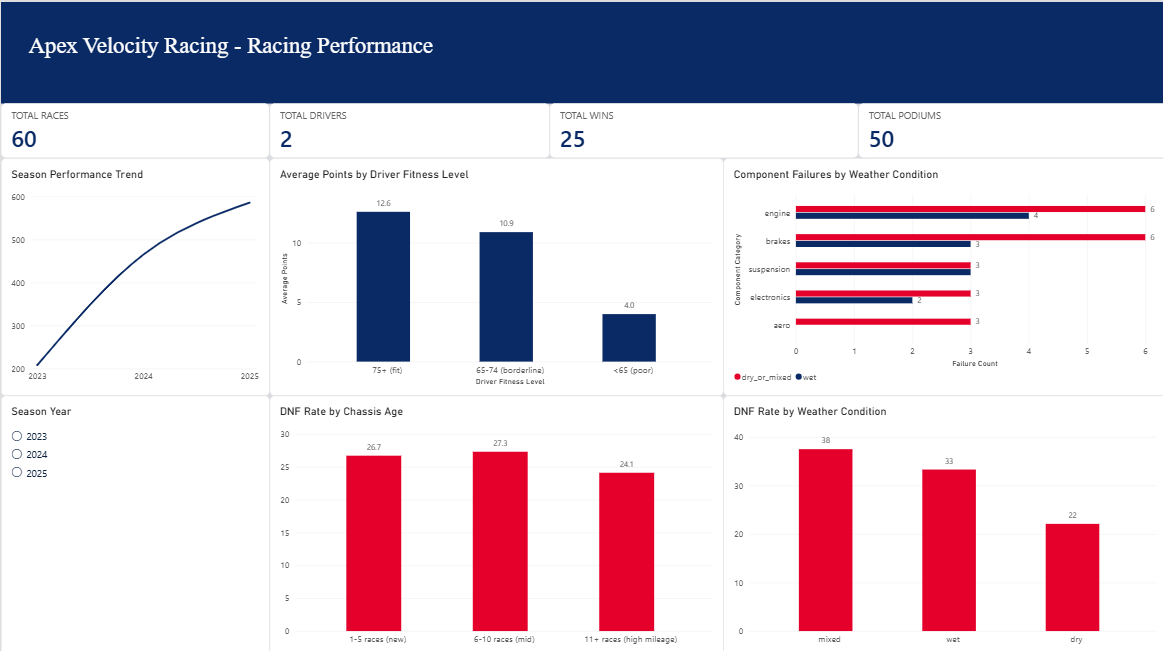

The dashboard page shown, as its layout file describes it:
{"tool":"powerbi","page":{"name":"Racing Performance","canvas":[1920,1080],"ordinal":0},"visuals":[{"type":"clusteredColumnChart","title":"Average Points by Driver Fitness Level","fields":{"Category":["Q1_fitness_vs_pace_results.fitness_band"],"Y":["Avg(Q1_fitness_vs_pace_results.avg_points)"]},"box":[442.5,257.3,747.2,391.1],"z":0},{"type":"clusteredBarChart","title":"Component Failures by Weather Condition","fields":{"Category":["Q2_component_failures_results.category"],"Series":["Q2_component_failures_results.weather_group"],"Y":["Sum(Q2_component_failures_results.failure_count)"]},"box":[1189.7,257.3,730.7,391.1],"z":1000},{"type":"clusteredColumnChart","title":"DNF Rate by Chassis Age","fields":{"Category":["Q3_weather_chassis_dnf_results.chassis_age_bucket"],"Y":["Sum(Q3_weather_chassis_dnf_results.dnf_rate_pct)"]},"box":[442.5,648.4,747.2,432.2],"z":2000},{"type":"clusteredColumnChart","title":"DNF Rate by Weather Condition ","fields":{"Category":["Q3_weather_chassis_dnf_results_PARTA.weather"],"Y":["Sum(Q3_weather_chassis_dnf_results_PARTA.dnf_rate_pct)"]},"box":[1189.7,648.4,730.7,432.2],"z":3000},{"type":"shape","box":[0,0,1920.4,167.3],"z":4000},{"type":"textbox","box":[44.5,49.8,1315.2,117.5],"z":5000},{"type":"cardVisual","fields":{"Data":["CountNonNull(races.race_id)"]},"box":[0,166.7,442.5,90.6],"z":6000},{"type":"cardVisual","fields":{"Data":["CountNonNull(personnel.personnel_id)"]},"box":[442.5,166.7,461.1,90.6],"z":7000},{"type":"cardVisual","fields":{"Data":["Sum(Q4_season_over_season_results_PARTA.wins)"]},"box":[903.6,166.7,508.4,90.6],"z":8000},{"type":"cardVisual","fields":{"Data":["Sum(Q4_season_over_season_results_PARTA.podiums)"]},"box":[1412,166.7,508.4,90.6],"z":9000},{"type":"lineChart","title":"Season Performance Trend ","fields":{"Category":["Q4_season_over_season_results_PARTA.season_year"],"Y":["Sum(Q4_season_over_season_results_PARTA.total_points)"]},"box":[0,257.3,442.5,391.1],"z":10000},{"type":"listSlicer","fields":{"Values":["Q4_season_over_season_results_PARTA.season_year"]},"box":[0,648.4,442.5,432.2],"z":11000}]}

Visuals, with their boxes in screenshot pixels (x1, y1, x2, y2), scaled from the page's 1920x1080 canvas onto the 1163x651 screenshot:
"Average Points by Driver Fitness Level" clusteredColumnChart: (268, 155, 721, 391)
"Component Failures by Weather Condition" clusteredBarChart: (721, 155, 1162, 391)
"DNF Rate by Chassis Age" clusteredColumnChart: (268, 391, 721, 650)
"DNF Rate by Weather Condition " clusteredColumnChart: (721, 391, 1162, 650)
shape: (0, 0, 1162, 101)
textbox: (27, 30, 824, 101)
cardVisual - CountNonNull(races.race_id): (0, 100, 268, 155)
cardVisual - CountNonNull(personnel.personnel_id): (268, 100, 547, 155)
cardVisual - Sum(Q4_season_over_season_results_PARTA.wins): (547, 100, 855, 155)
cardVisual - Sum(Q4_season_over_season_results_PARTA.podiums): (855, 100, 1162, 155)
"Season Performance Trend " lineChart: (0, 155, 268, 391)
listSlicer - Q4_season_over_season_results_PARTA.season_year: (0, 391, 268, 650)
